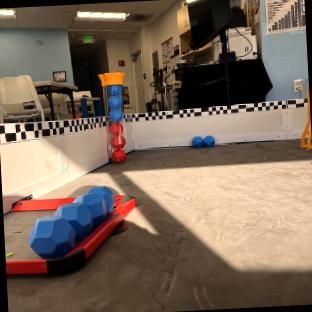V5_BLUE: (29, 186, 113, 257), (107, 84, 125, 162), (107, 83, 122, 119), (192, 135, 214, 146)
V5_RED: (109, 121, 125, 160)
